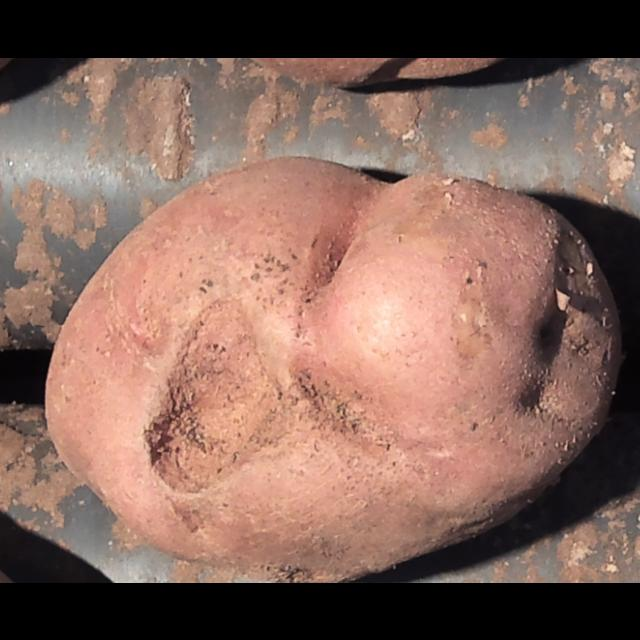Diseased-fungal potato: (28, 142, 640, 582)
